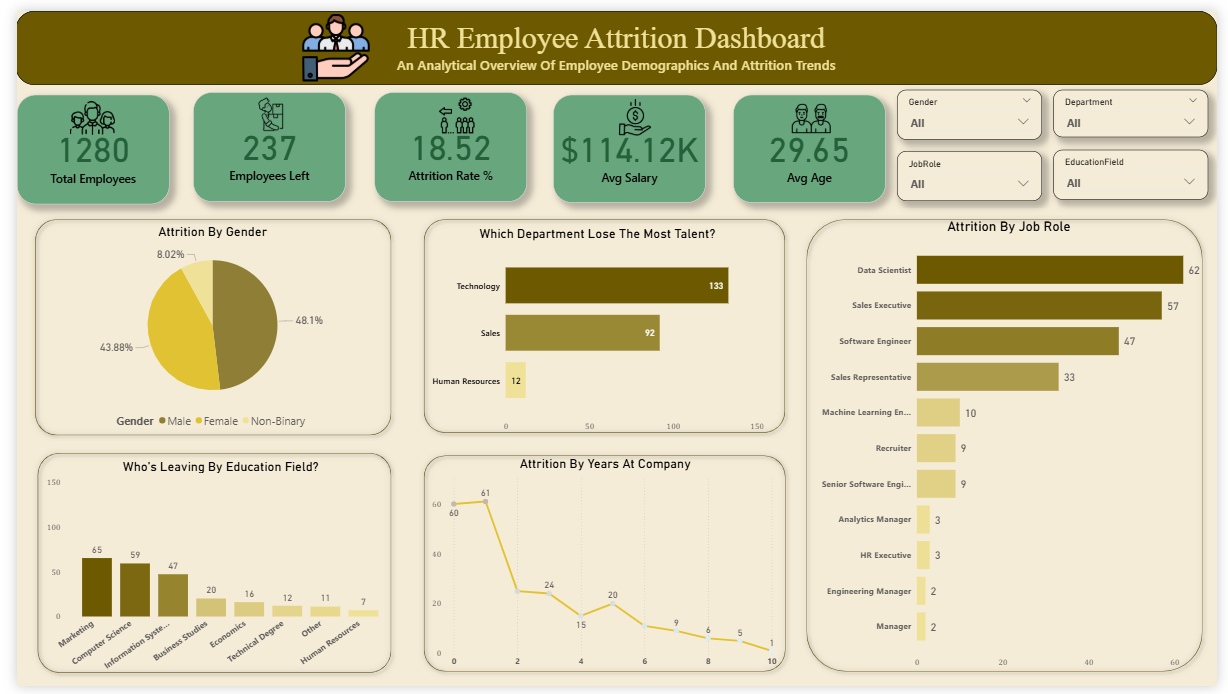

The page's visual inventory and layout, read from the dashboard file:
{"tool":"powerbi","page":{"name":"HR Employee Attrition Dashboard","canvas":[1920,1080],"ordinal":0},"visuals":[{"type":"shape","box":[-2,0,1922,118],"z":0},{"type":"card","fields":{"Values":["CountNonNull(HR_Employee_Attrition_Cleaned.EmployeeID)"]},"box":[0,133.6,244.3,175],"z":0,"group":"g1"},{"type":"textbox","box":[-2,0,1922,118],"z":1000},{"type":"card","fields":{"Values":["CountNonNull(HR_Employee_Attrition_Cleaned.Attrition)"]},"box":[282.1,130,244.3,175],"z":1000,"group":"g1"},{"type":"group","id":"g1","title":"Group 1","box":[0,130,1392,180],"z":2000},{"type":"card","fields":{"Values":["HR_Employee_Attrition_Cleaned.Attrition Rate %"]},"box":[571.3,130,244.3,175],"z":2000,"group":"g1"},{"type":"image","box":[430,0,160,118],"z":3000},{"type":"card","fields":{"Values":["Avg(HR_Employee_Attrition_Cleaned.Salary)"]},"box":[857,133.6,244.3,173.1],"z":3000,"group":"g1"},{"type":"card","fields":{"Values":["Avg(HR_Employee_Attrition_Cleaned.Age)"]},"box":[1146.3,133.6,244.3,173.1],"z":4000,"group":"g1"},{"type":"shape","box":[20,324,588,364],"z":4000},{"type":"shape","box":[1254,324,652,742],"z":5000},{"type":"shape","box":[642,324,596,360],"z":6000},{"type":"pieChart","title":"Attrition By Gender","fields":{"Category":["HR_Employee_Attrition_Cleaned.Gender"],"Y":["CountNonNull(HR_Employee_Attrition_Cleaned.EmployeeID)"],"Series":["HR_Employee_Attrition_Cleaned.Attrition"]},"box":[36,340.3,554,336],"z":6000,"group":"g3"},{"type":"barChart","title":"Attrition By Job Role","fields":{"Category":["HR_Employee_Attrition_Cleaned.JobRole"],"Y":["CountNonNull(HR_Employee_Attrition_Cleaned.Attrition)"]},"box":[1268,332,638,726],"z":7000},{"type":"barChart","title":"Which Department Lose The Most Talent?","fields":{"Category":["HR_Employee_Attrition_Cleaned.Department"],"Y":["CountNonNull(HR_Employee_Attrition_Cleaned.Attrition)"]},"box":[658,343.8,542,336],"z":7000,"group":"g3"},{"type":"group","id":"g2","title":"Group 2","box":[80,128,1232,87],"z":8000},{"type":"image","box":[80,128,81.5,87],"z":8000,"group":"g2"},{"type":"image","box":[374.4,128,64.8,74.1],"z":9000,"group":"g2"},{"type":"group","id":"g3","title":"Group 3","box":[36,340.3,1185.9,727.7],"z":9000},{"type":"image","box":[665.2,131.7,75.9,70.4],"z":10000,"group":"g2"},{"type":"shape","box":[24,698,584,370],"z":10000},{"type":"image","box":[954.1,135.4,70.4,68.5],"z":11000,"group":"g2"},{"type":"shape","box":[642.6,702.7,596.8,364],"z":11000},{"type":"slicer","fields":{"Values":["HR_Employee_Attrition_Cleaned.Department"]},"box":[1658,126,248,76],"z":11001},{"type":"slicer","fields":{"Values":["HR_Employee_Attrition_Cleaned.Gender"]},"box":[1408,126,232,80],"z":11002},{"type":"slicer","fields":{"Values":["HR_Employee_Attrition_Cleaned.JobRole"]},"box":[1408,224,232,80],"z":11003},{"type":"slicer","fields":{"Values":["HR_Employee_Attrition_Cleaned.EducationField"]},"box":[1658,222,248,80],"z":11004},{"type":"image","box":[1230,136,82,72],"z":12000,"group":"g2"},{"type":"columnChart","title":"Who''s Leaving By Education Field?","fields":{"Category":["HR_Employee_Attrition_Cleaned.EducationField"],"Y":["CountNonNull(HR_Employee_Attrition_Cleaned.Attrition)"]},"box":[44,716,564.7,352],"z":12000,"group":"g3"},{"type":"lineChart","title":"Attrition By Years At Company","fields":{"Category":["HR_Employee_Attrition_Cleaned.YearsAtCompany"],"Y":["CountNonNull(HR_Employee_Attrition_Cleaned.Attrition)"]},"box":[659.3,712,562.6,348],"z":13000,"group":"g3"}]}

Visuals, with their boxes in screenshot pixels (x1, y1, x2, y2), scaled from the page's 1920x1080 canvas onto the 1228x694 screenshot:
shape: [0, 0, 1227, 76]
card - CountNonNull(HR_Employee_Attrition_Cleaned.EmployeeID): [0, 86, 156, 198]
textbox: [0, 0, 1227, 76]
card - CountNonNull(HR_Employee_Attrition_Cleaned.Attrition): [180, 84, 337, 196]
"Group 1" group: [0, 84, 890, 199]
card - HR_Employee_Attrition_Cleaned.Attrition Rate %: [365, 84, 522, 196]
image: [275, 0, 377, 76]
card - Avg(HR_Employee_Attrition_Cleaned.Salary): [548, 86, 704, 197]
card - Avg(HR_Employee_Attrition_Cleaned.Age): [733, 86, 889, 197]
shape: [13, 208, 389, 442]
shape: [802, 208, 1219, 685]
shape: [411, 208, 792, 440]
"Attrition By Gender" pieChart: [23, 219, 377, 435]
"Attrition By Job Role" barChart: [811, 213, 1219, 680]
"Which Department Lose The Most Talent?" barChart: [421, 221, 767, 437]
"Group 2" group: [51, 82, 839, 138]
image: [51, 82, 103, 138]
image: [239, 82, 281, 130]
"Group 3" group: [23, 219, 782, 686]
image: [425, 85, 474, 130]
shape: [15, 449, 389, 686]
image: [610, 87, 655, 131]
shape: [411, 452, 793, 685]
slicer - HR_Employee_Attrition_Cleaned.Department: [1060, 81, 1219, 130]
slicer - HR_Employee_Attrition_Cleaned.Gender: [901, 81, 1049, 132]
slicer - HR_Employee_Attrition_Cleaned.JobRole: [901, 144, 1049, 195]
slicer - HR_Employee_Attrition_Cleaned.EducationField: [1060, 143, 1219, 194]
image: [787, 87, 839, 134]
"Who''s Leaving By Education Field?" columnChart: [28, 460, 389, 686]
"Attrition By Years At Company" lineChart: [422, 458, 782, 681]
